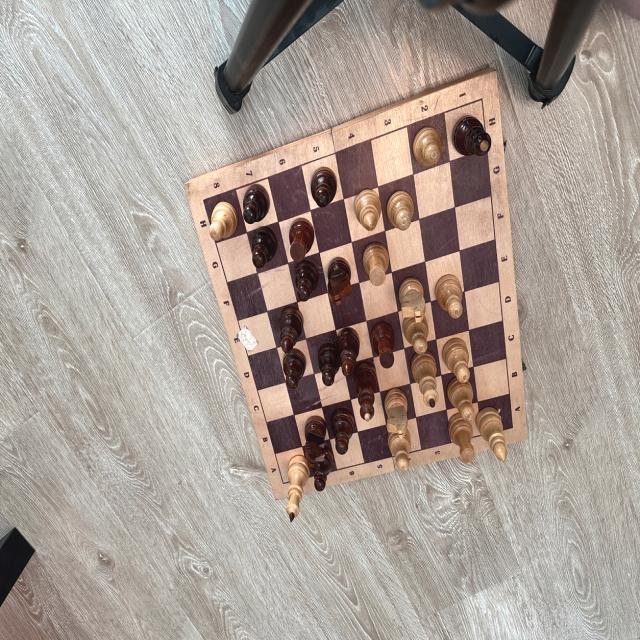chess-table-corners: (476, 94, 488, 105), (199, 194, 207, 206), (508, 422, 516, 432), (280, 478, 287, 488)
